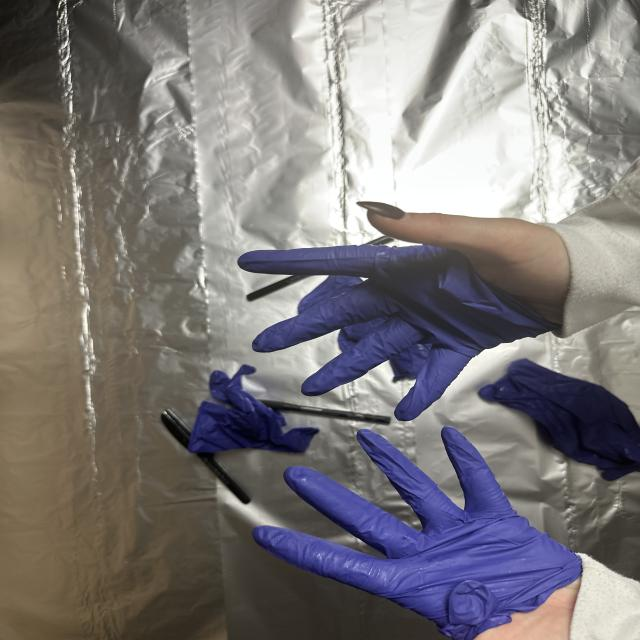glove_partial: (230, 199, 574, 421), (254, 424, 587, 640)
